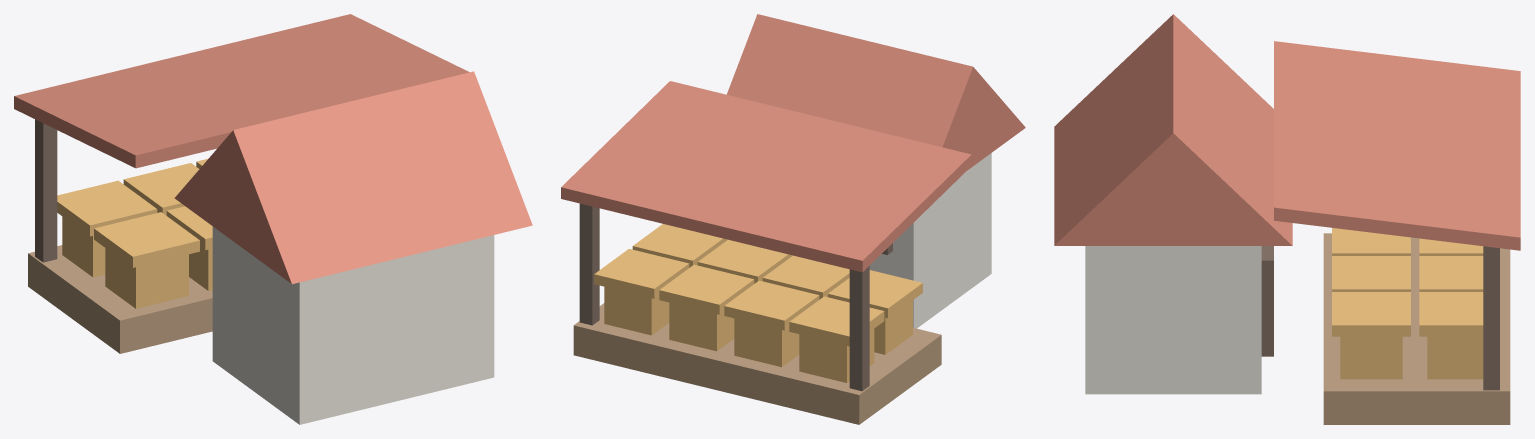
Rendered from station.glb.
The picture shows the model from 3 angles, left to right: view 1: azimuth 30°, elevation 25°; view 2: azimuth 150°, elevation 25°; view 3: azimuth 270°, elevation 25°; orthographic projection. The views are drawn at different scales.
Visible parts, largest first — view 1: station_roof, station_body, station_canopy, station_platform, station_crate_1, station_crate_5, station_canopy_posts, station_crate_6, station_crate_2; view 2: station_canopy, station_roof, station_platform, station_body, station_crate_6, station_crate_8, station_crate_7, station_canopy_posts, station_crate_5, station_crate_1, station_crate_4, station_crate_3 (+1 smaller); view 3: station_canopy, station_roof, station_body, station_platform, station_crate_4, station_crate_8, station_crate_3, station_canopy_posts, station_crate_7, station_crate_2, station_crate_6, station_door (+1 smaller).
Part boxes in pixels (x1,y1,x2,y2): station_roof: [174, 71, 532, 284]; station_body: [212, 226, 494, 424]; station_canopy: [14, 14, 469, 168]; station_platform: [28, 245, 212, 353]; station_crate_1: [94, 212, 199, 308]; station_crate_5: [57, 180, 157, 277]; station_canopy_posts: [35, 119, 57, 262]; station_crate_6: [123, 163, 199, 215]; station_crate_2: [166, 206, 212, 290]; station_canopy: [561, 81, 971, 272]; station_roof: [727, 14, 1025, 170]; station_platform: [573, 303, 941, 424]; station_body: [869, 153, 991, 328]; station_crate_6: [724, 280, 819, 367]; station_crate_8: [594, 249, 689, 335]; station_crate_7: [659, 264, 754, 351]; station_canopy_posts: [579, 203, 869, 391]; station_crate_5: [789, 296, 884, 382]; station_crate_1: [828, 270, 922, 354]; station_crate_4: [632, 224, 727, 267]; station_crate_3: [697, 239, 792, 283]; station_canopy: [1274, 41, 1520, 250]; station_roof: [1054, 14, 1292, 245]; station_body: [1085, 246, 1261, 394]; station_platform: [1323, 233, 1510, 424]; station_crate_4: [1332, 292, 1410, 379]; station_crate_8: [1419, 292, 1483, 379]; station_crate_3: [1332, 256, 1410, 291]; station_canopy_posts: [1483, 246, 1499, 390]; station_crate_7: [1419, 256, 1483, 291]; station_crate_2: [1332, 228, 1410, 255]; station_crate_6: [1419, 238, 1483, 255]; station_door: [1261, 246, 1273, 356].
Size of the model in its own units: 1.9 by 1.45 by 2.25.
